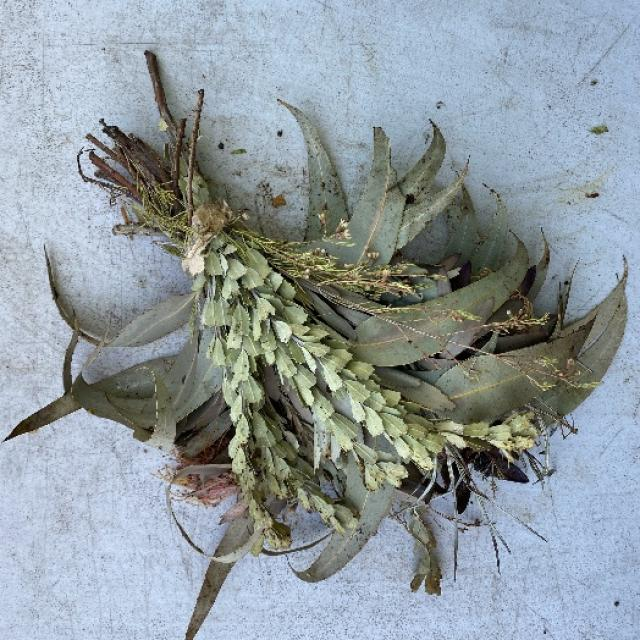organik: (30, 86, 587, 558)
